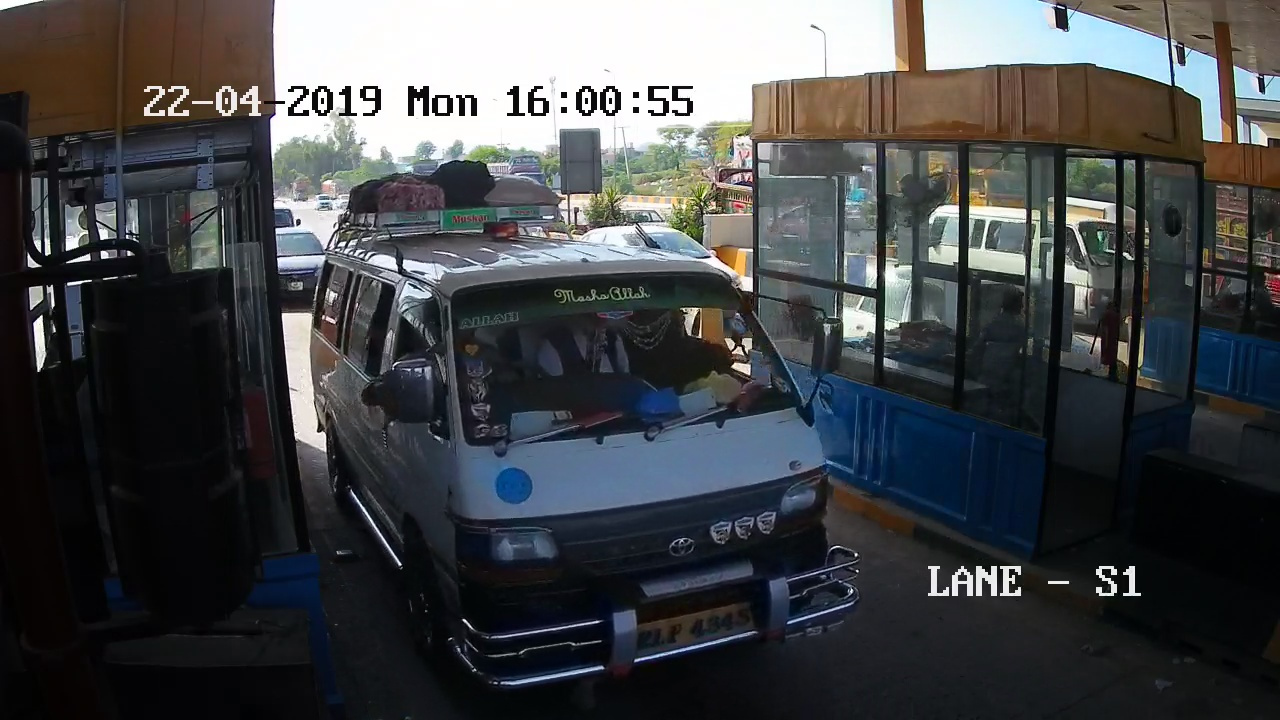car: (308, 170, 884, 720)
